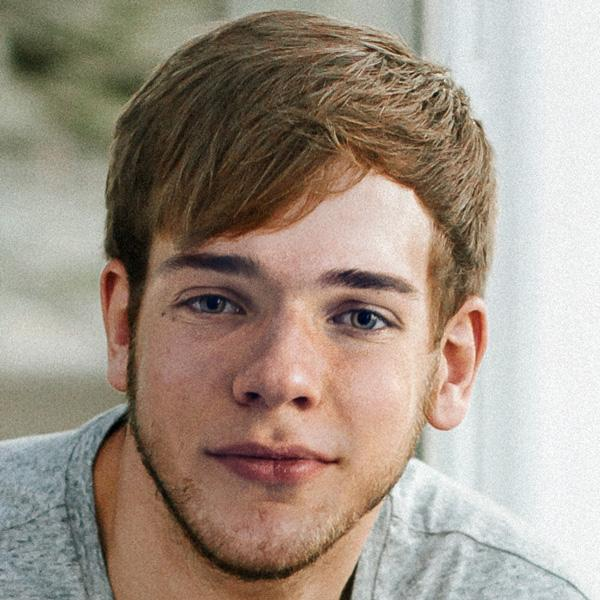Eyes: (165, 271, 257, 337), (314, 288, 406, 349)
